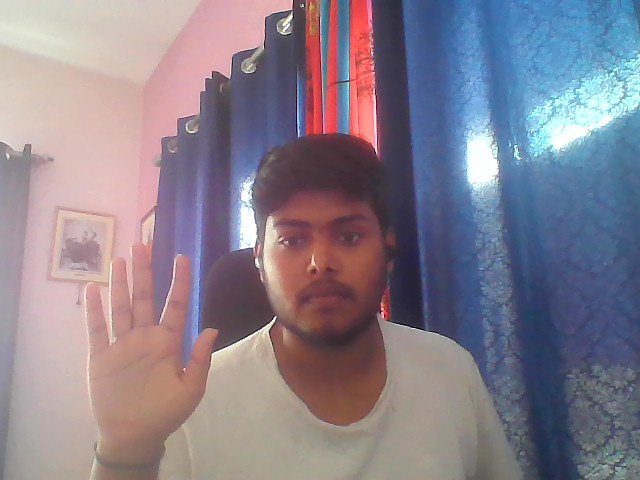Hello: (76, 236, 222, 449)
